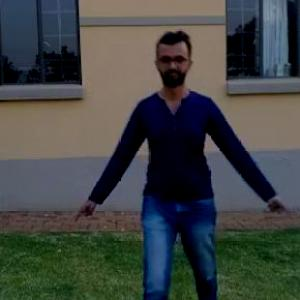land: (97, 53, 264, 299)
